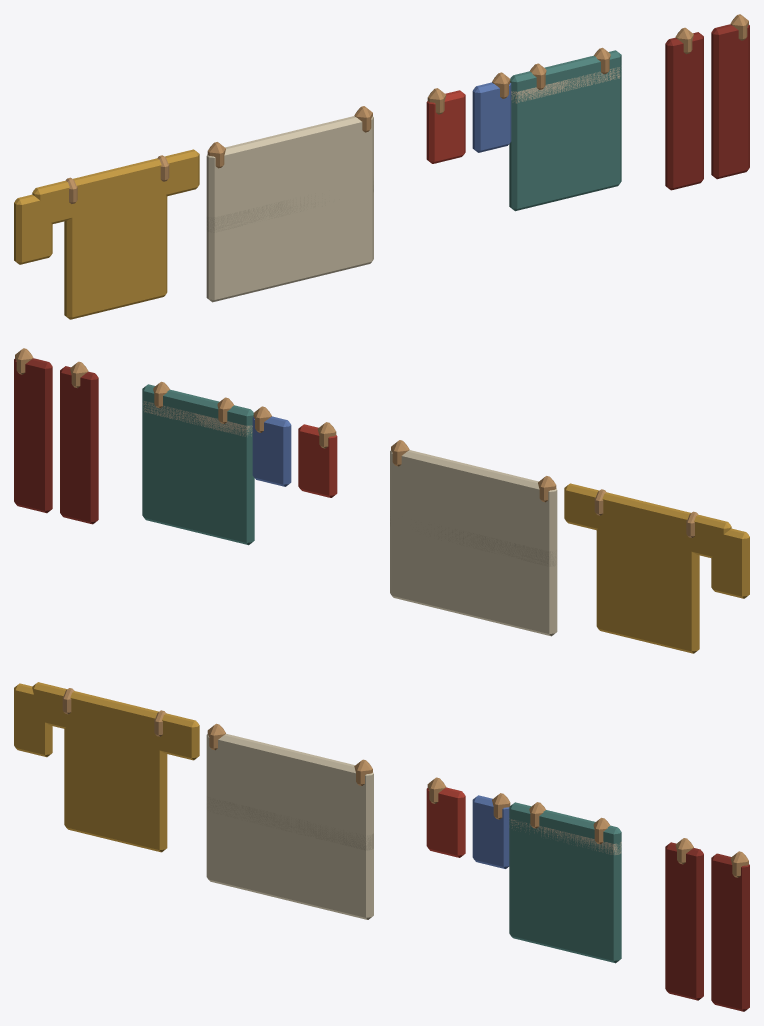
Rendered from cloths.glb.
3 renders of one model, top to bottom at view 1: azimuth 30°, elevation 25°; view 2: azimuth 150°, elevation 25°; view 3: azimuth 330°, elevation 25°, orthographic.
Visible parts, largest first — view 1: body; view 2: body; view 3: body.
Boxes of the visible parts, x1=… form: body: x1=14, y1=14, x2=749, y2=319; body: x1=14, y1=348, x2=749, y2=653; body: x1=14, y1=682, x2=749, y2=1011.
Size of the model in its own units: 4 by 0.82 by 0.09.
